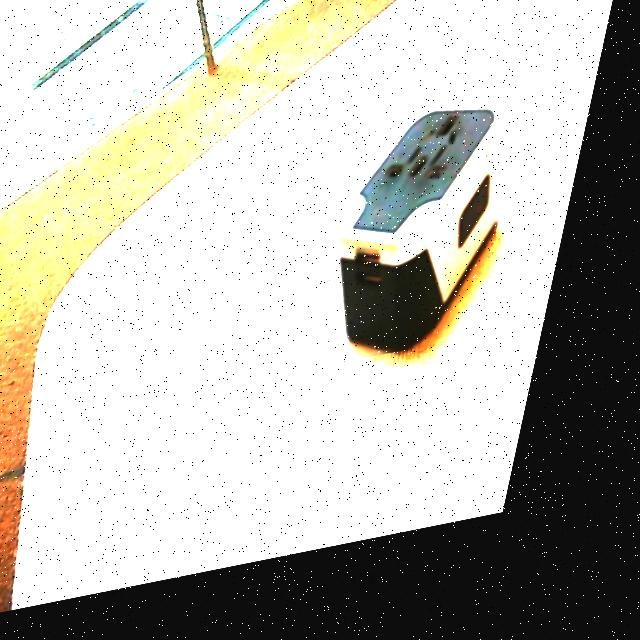adapter: (329, 108, 536, 386)
